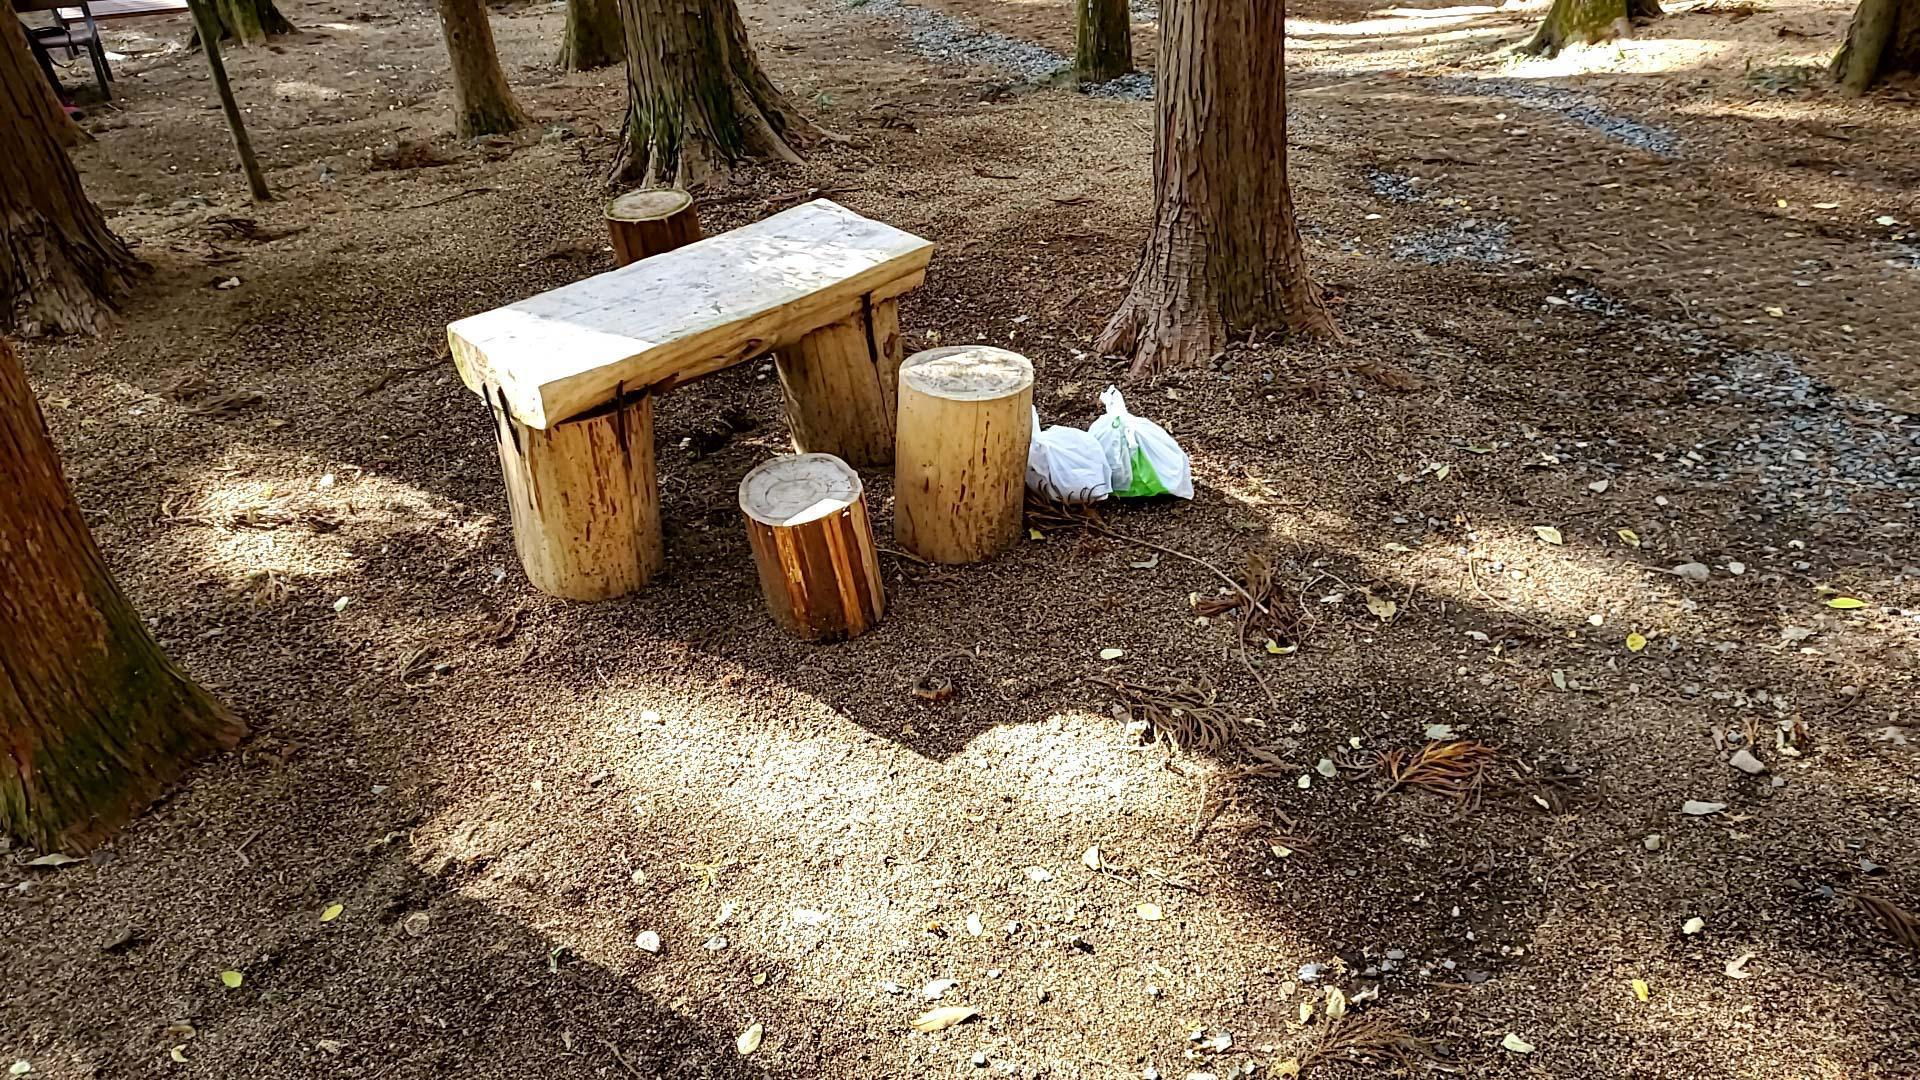white_bag: (1077, 375, 1203, 504), (1021, 402, 1116, 509)
